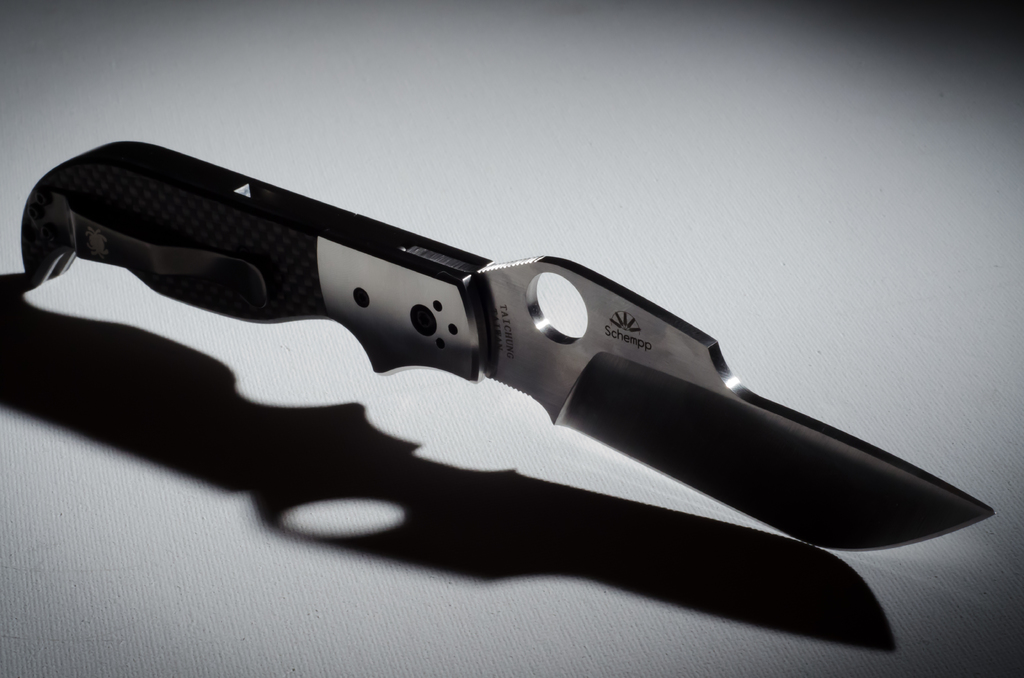knife: (20, 141, 995, 549)
